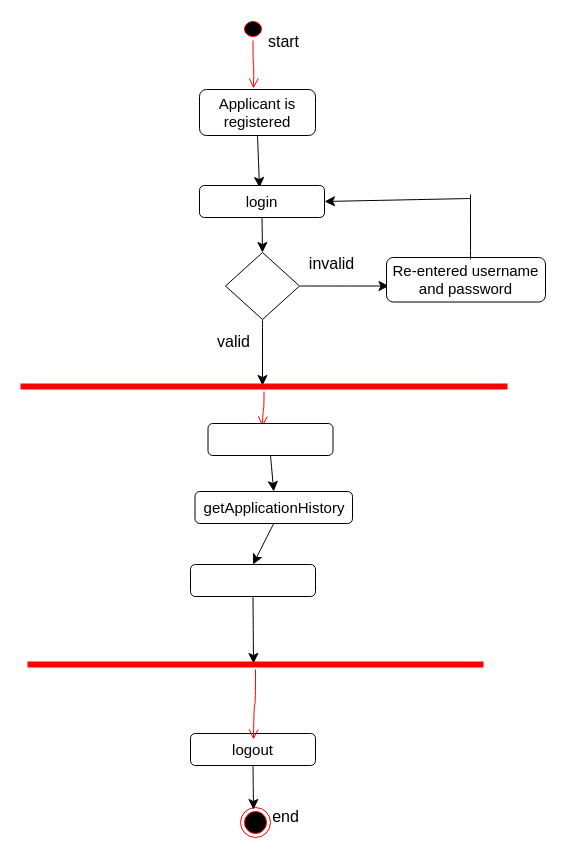
The diagram is 563 pixels wide and 855 high, and some of its shapes have lost their labels. Each missing label, with the centre of its shape:
"Applicant" belongs at (x=270, y=439).
"check status" belongs at (x=253, y=580).
